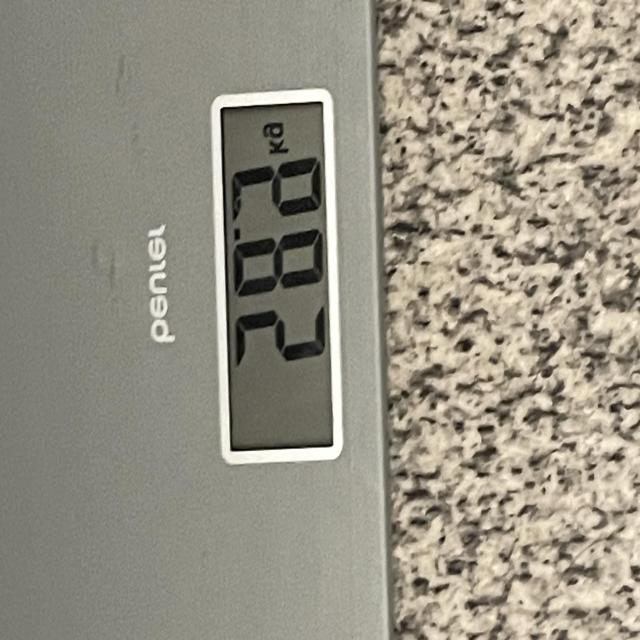ws: (210, 88, 391, 640)
